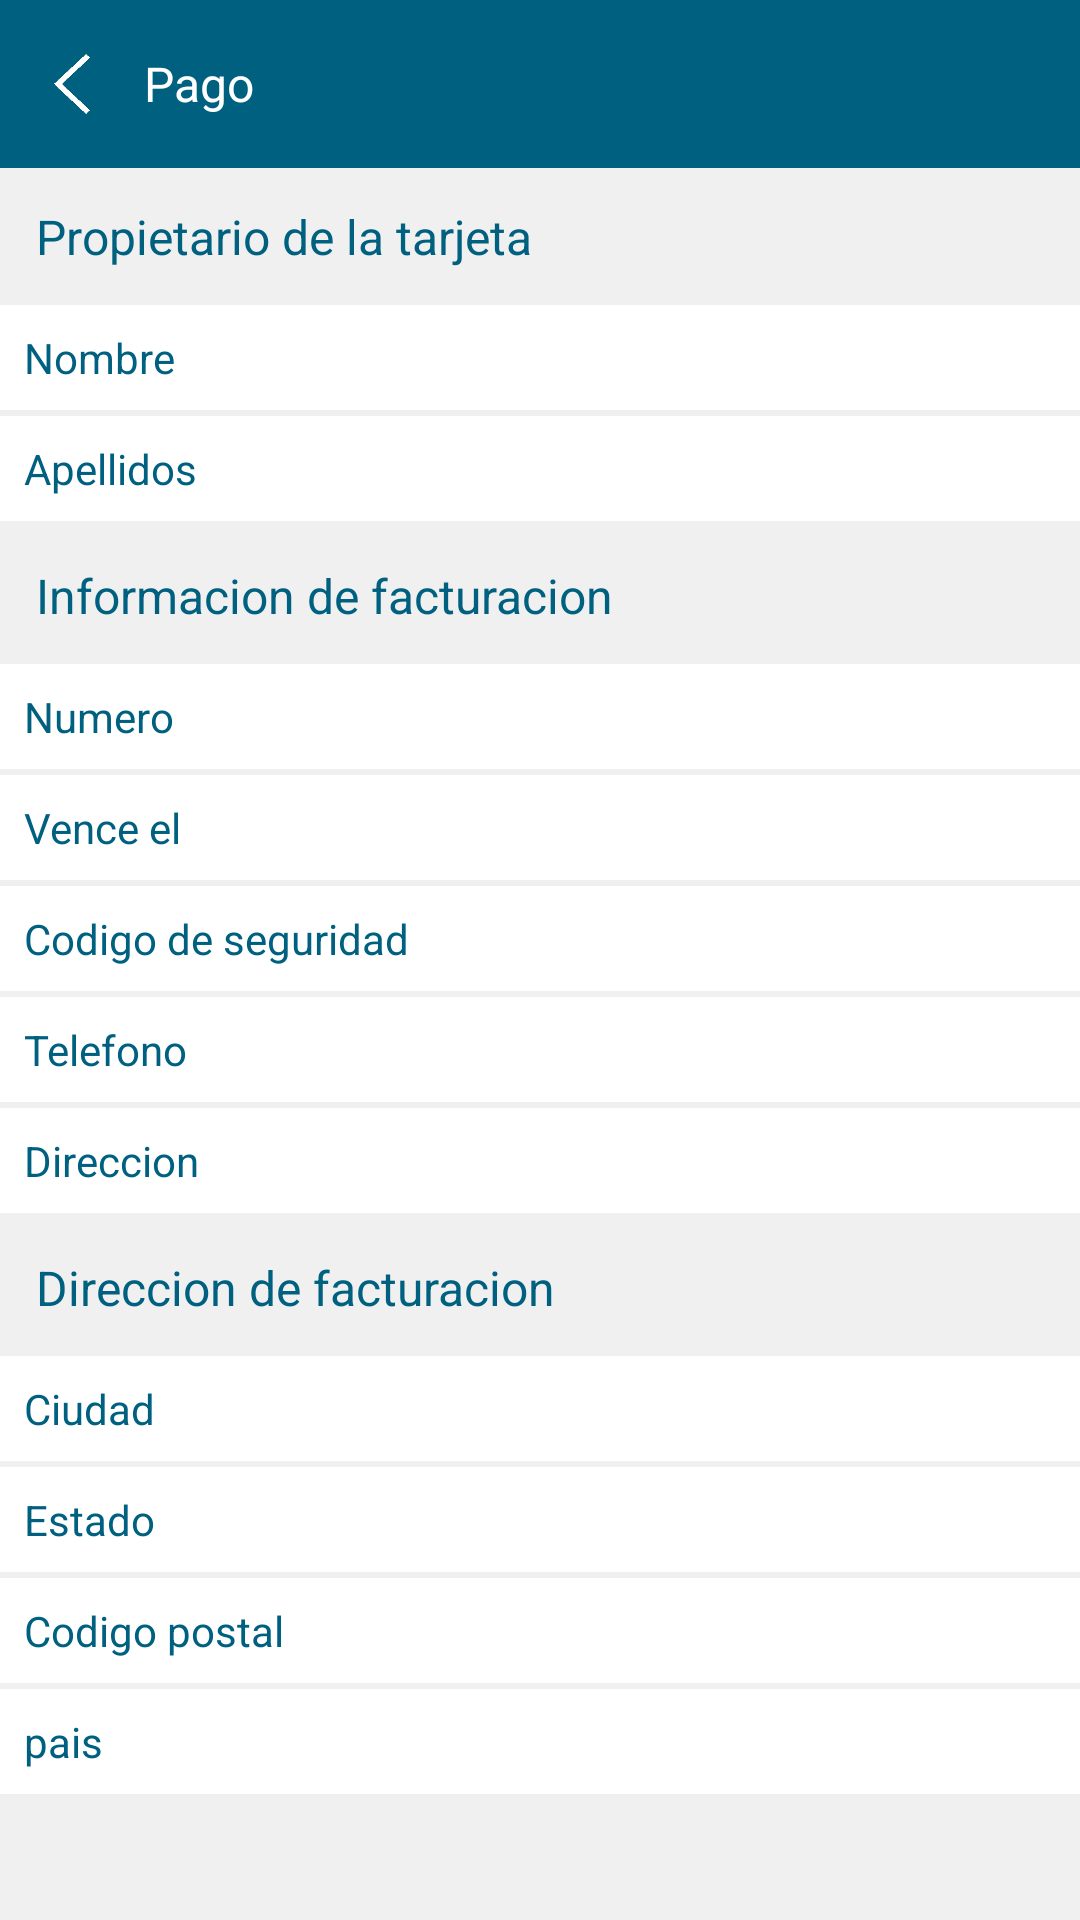

Locate icon controls on the screen. Image size 1080x1920, boxes as [left=x1, top=y1, right=x2, bottom=y2].
left arrow: [left=54, top=54, right=90, bottom=114]
